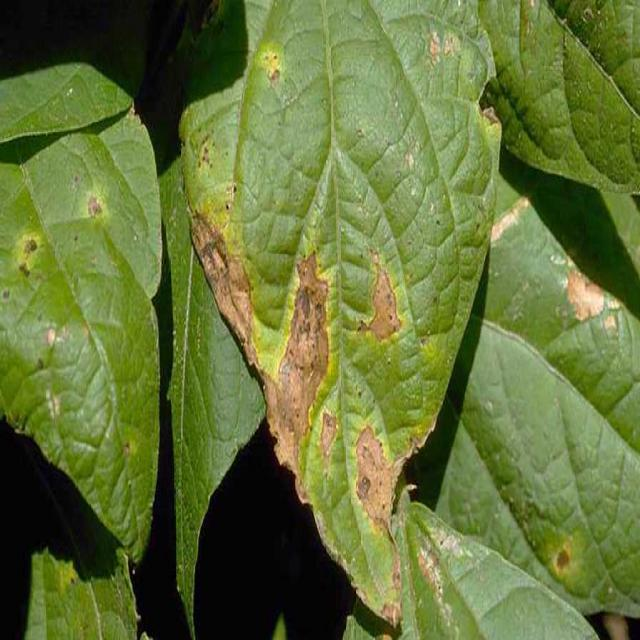blight: (186, 192, 260, 375), (273, 246, 328, 434), (345, 428, 403, 545), (559, 259, 623, 351), (538, 500, 588, 601), (359, 251, 403, 365), (73, 177, 123, 234), (261, 36, 297, 111)
